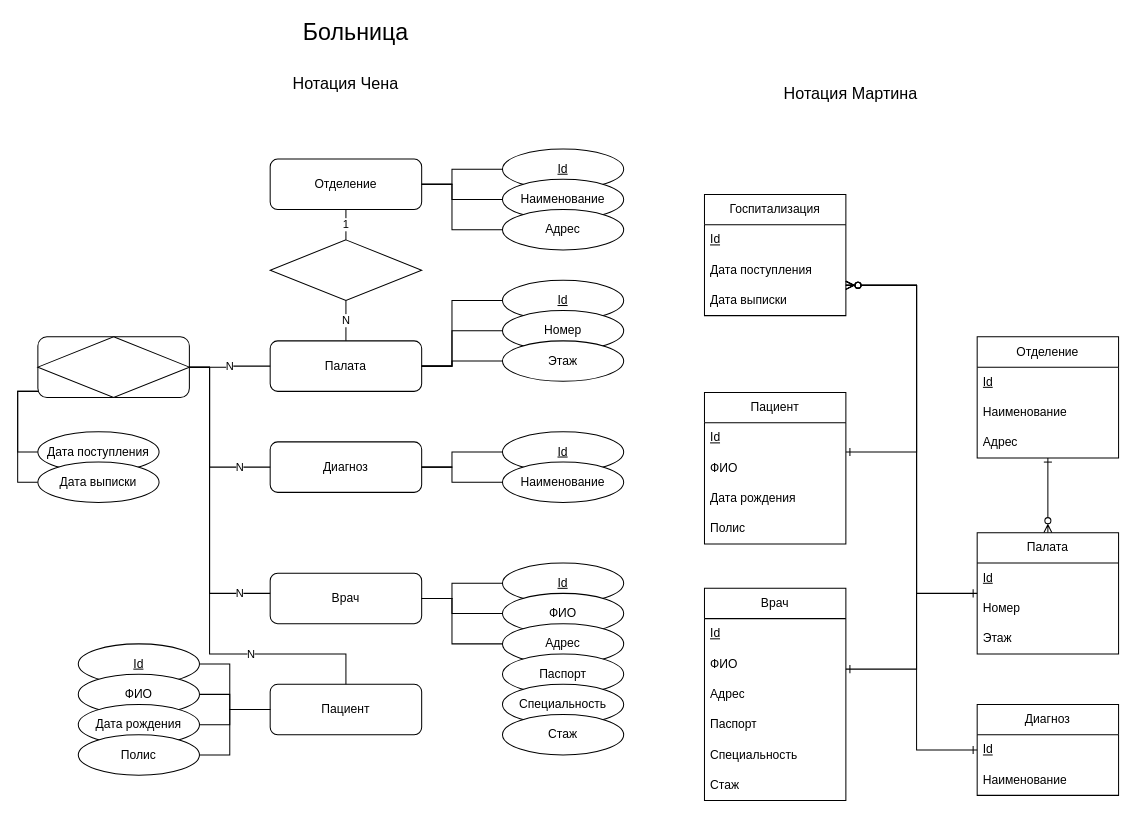
Some shapes in this 1136 by 818 pixel diagram are drawn without their labels. The shapes that lost their labels are listed below. From the top down, each one's centre as x and y in pixels, then its label:
At (x=345, y=269): "Находится".
At (x=113, y=366): "Лечится".
